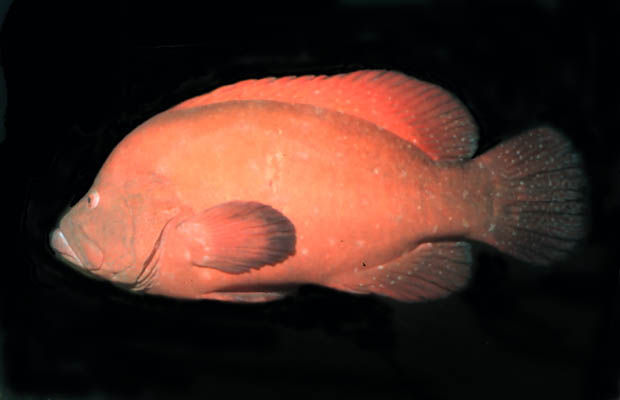fish: (50, 71, 584, 305)
